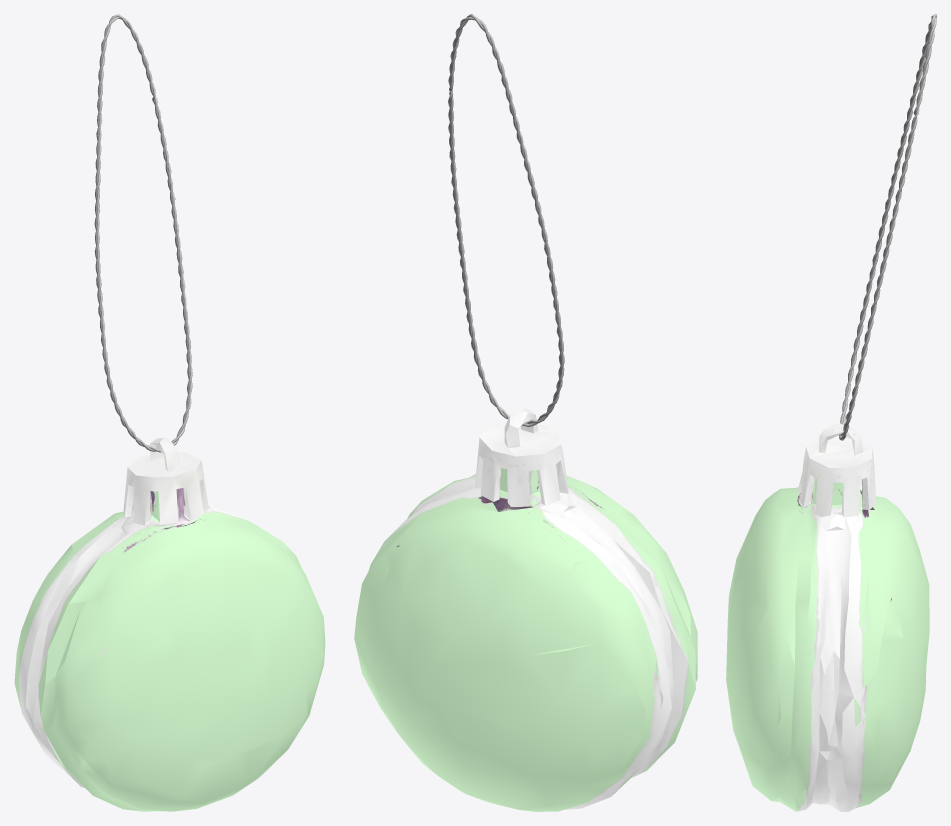
Rendered from macaron_green.glb.
3 views of the same model, side by side, from view 1: azimuth 30°, elevation 25°; view 2: azimuth 150°, elevation 25°; view 3: azimuth 270°, elevation 25° (orthographic). The views are drawn at different scales.
Visible parts, largest first — view 1: Mesh1.0, GN Instance; view 2: Mesh1.0, GN Instance; view 3: Mesh1.0, GN Instance.
Part boxes in pixels (x1,y1,x2,y2): Mesh1.0: [14, 437, 325, 811]; GN Instance: [94, 14, 192, 452]; Mesh1.0: [354, 408, 697, 811]; GN Instance: [448, 14, 564, 427]; Mesh1.0: [726, 423, 929, 811]; GN Instance: [839, 14, 936, 440].
Size of the model in its own units: 0.0415 by 0.1052 by 0.0257.
2 materials, 1 textured.
